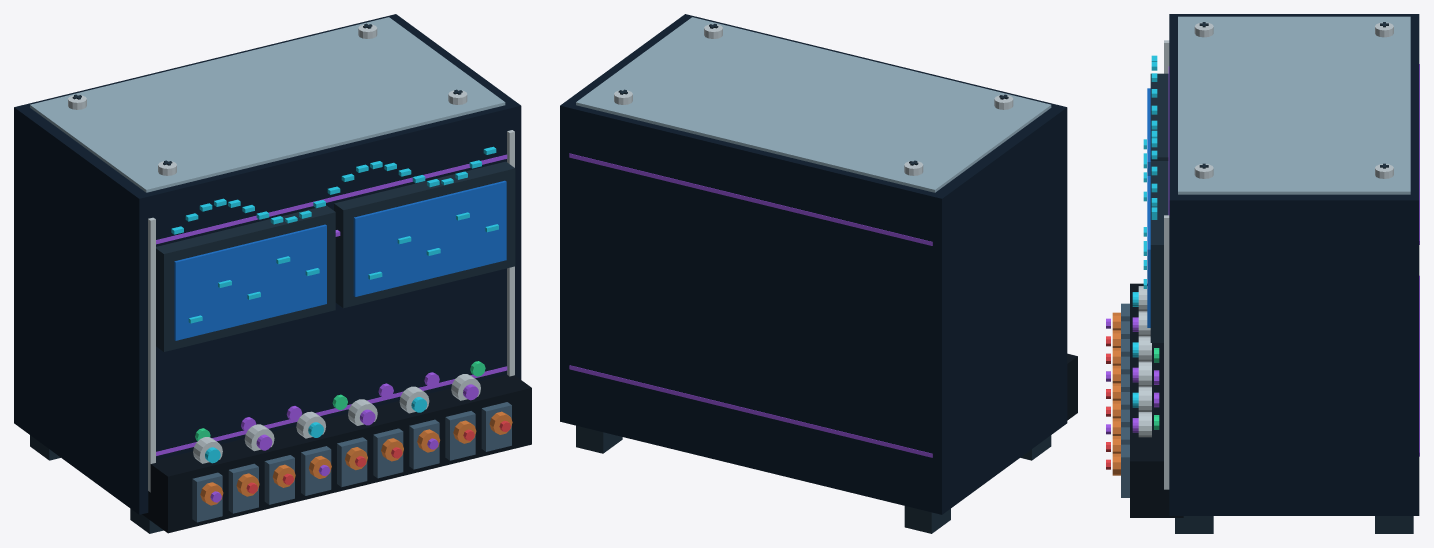
File: 53_L74_StageSynchronizationController.fbx
3 renders of one model, left to right at view 1: azimuth 30°, elevation 25°; view 2: azimuth 150°, elevation 25°; view 3: azimuth 270°, elevation 25°, orthographic.
Parts seen in each view (by area): view 1: StageSynchronizationController; view 2: StageSynchronizationController; view 3: StageSynchronizationController.
Part boxes in pixels (left/top/right/bottom): StageSynchronizationController: left=14, top=14, right=531, bottom=533; StageSynchronizationController: left=560, top=14, right=1077, bottom=533; StageSynchronizationController: left=1106, top=14, right=1419, bottom=533.
Size of the model in its own units: 148 by 131 by 105.
